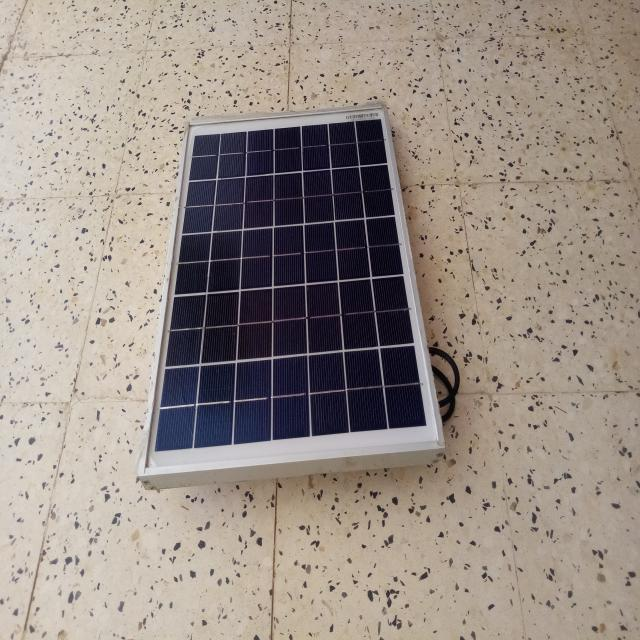no faulty: (145, 111, 443, 478)
